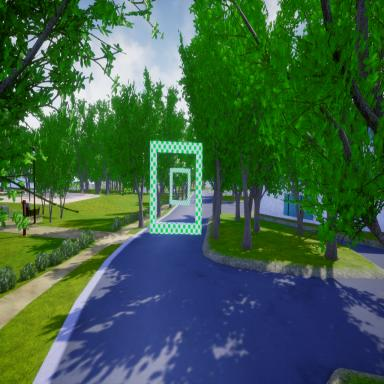gate: (150, 140, 203, 236), (169, 167, 191, 205)
